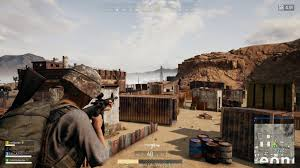Gun: (86, 93, 117, 132)
